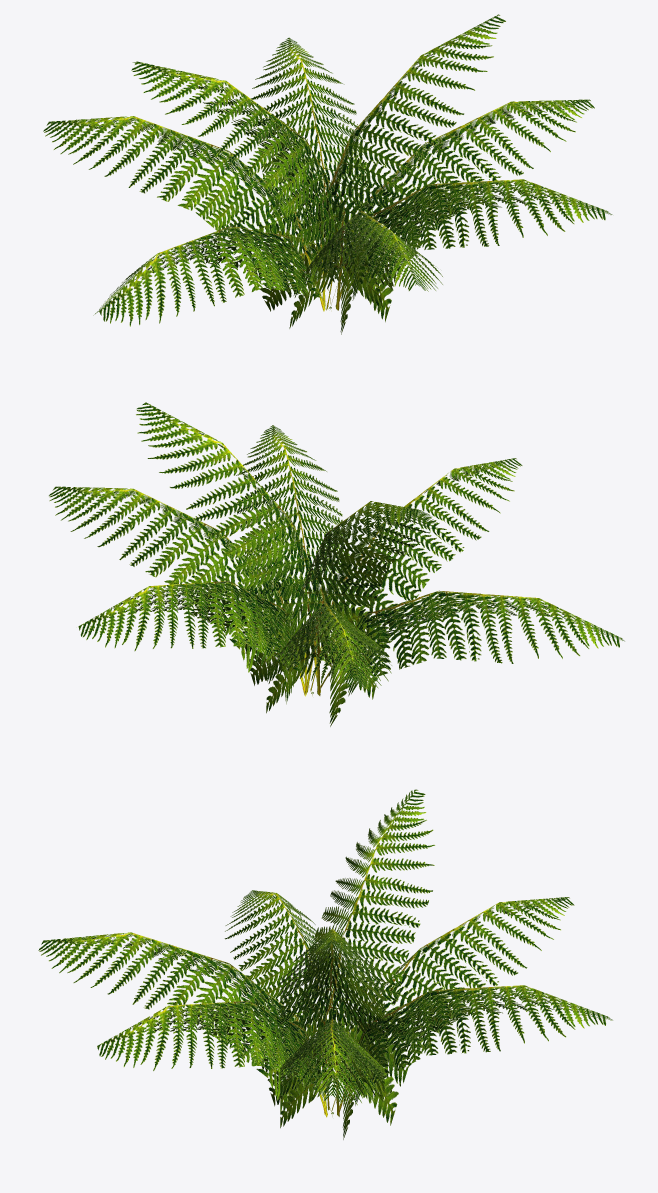
Rendered from Fern_Vert_01.DAE.
3 renders of one model, top to bottom at view 1: azimuth 30°, elevation 25°; view 2: azimuth 150°, elevation 25°; view 3: azimuth 270°, elevation 25°, orthographic.
Visible parts, largest first — view 1: Plane08; view 2: Plane08; view 3: Plane08.
Part boxes in pixels (left/top/right/bottom): Plane08: left=43, top=14, right=612, bottom=334; Plane08: left=49, top=402, right=624, bottom=726; Plane08: left=38, top=789, right=612, bottom=1139.
Bounding box in the file's own units: 1.83 × 1.78 × 0.925.
